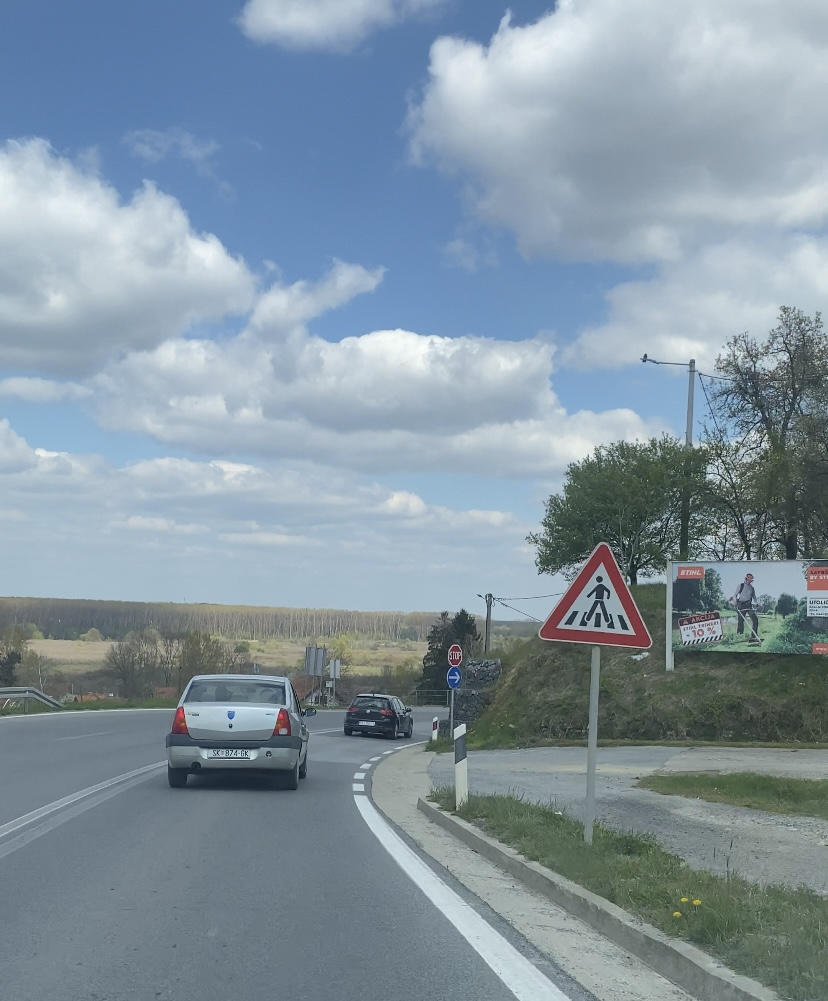Obavezno zaustavljanje: (447, 644, 462, 666)
Približavanje pješačkom prijelazu: (538, 541, 652, 648)
